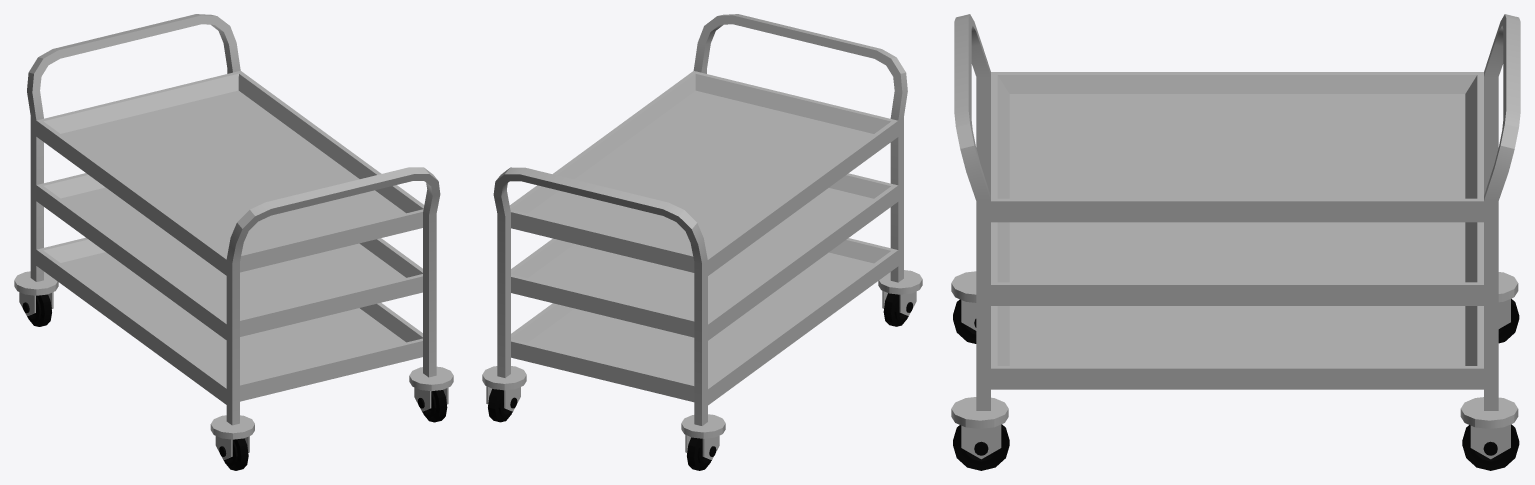
File: Trolley_013.glb
3 renders of one model, left to right at view 1: azimuth 30°, elevation 25°; view 2: azimuth 150°, elevation 25°; view 3: azimuth 270°, elevation 25°, orthographic. The views are drawn at different scales.
Parts seen in each view (by area): view 1: Mesh_Trolley_013; view 2: Mesh_Trolley_013; view 3: Mesh_Trolley_013.
Boxes of the visible parts, <box> form: Mesh_Trolley_013: <box>14,14,453,470</box>; Mesh_Trolley_013: <box>482,14,922,470</box>; Mesh_Trolley_013: <box>951,14,1520,470</box>.
Size of the model in its own units: 0.9207 by 0.9787 by 1.48.
Materials: 1 (1 with a texture image).
